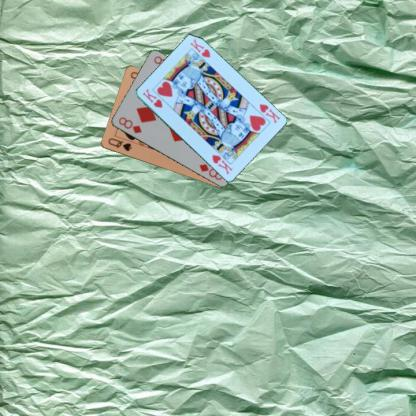8d: (116, 114, 142, 134)
Kh: (257, 101, 282, 125), (140, 86, 163, 109)
Qs: (105, 135, 133, 153)
